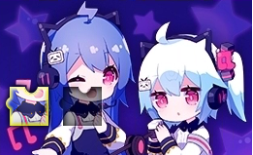gap: (60, 87, 102, 125)
